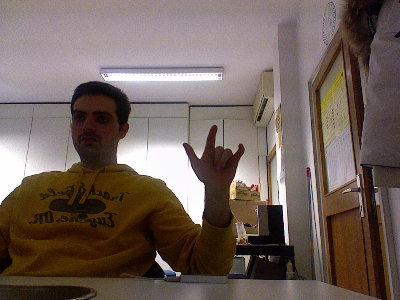我爱你: (180, 124, 245, 184)
